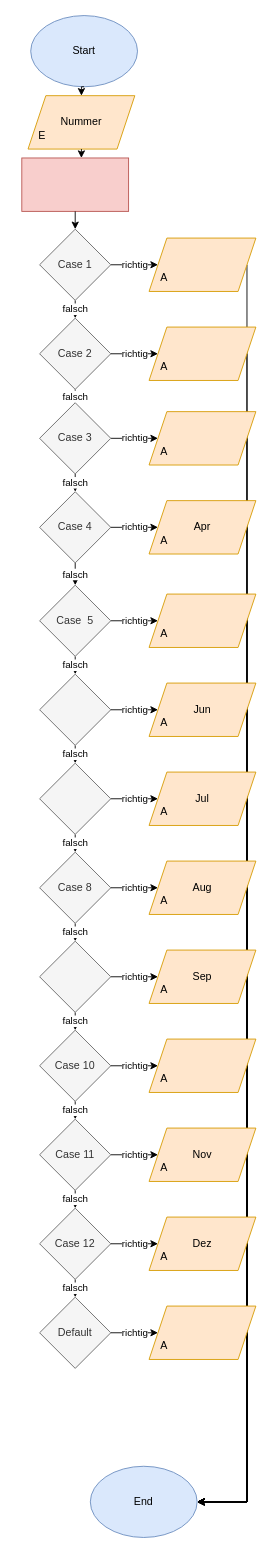
Some shapes in this 271 by 1553 pixel diagram are drawn without their labels. The shapes that lost their labels are listed below. From the top down, each one's box as (x1, y1, x2, y2) in pixels, then its label:
(21, 157, 129, 211): Match Nummer
(148, 237, 256, 291): Jan
(148, 326, 256, 380): Feb
(148, 411, 256, 465): Mär
(148, 593, 256, 647): Mai
(39, 673, 111, 745): Case 6
(39, 762, 111, 834): Case 7
(39, 940, 111, 1012): Case 9
(148, 1038, 256, 1092): Okt
(148, 1305, 256, 1359): Nix
